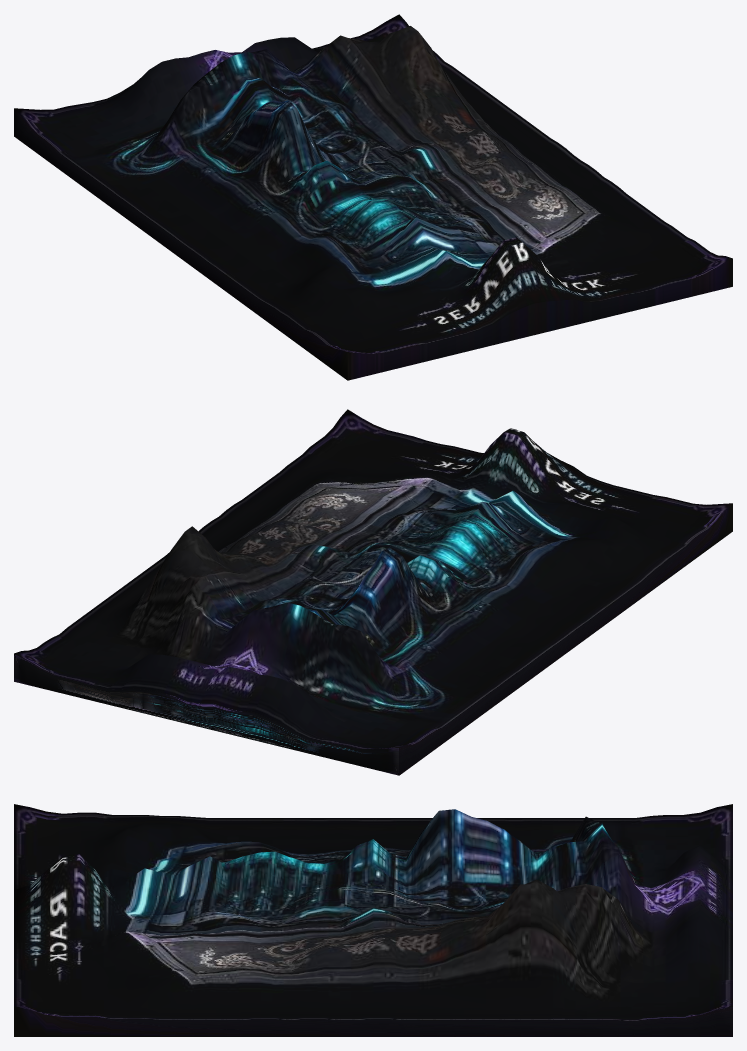
Rendered from TECH_04_Server_Rack.glb.
The picture shows the model from 3 angles, top to bottom: view 1: azimuth 30°, elevation 25°; view 2: azimuth 150°, elevation 25°; view 3: azimuth 270°, elevation 25°; orthographic projection. The views are drawn at different scales.
Visible parts, largest first — view 1: TECH_04_Server_Rack; view 2: TECH_04_Server_Rack; view 3: TECH_04_Server_Rack.
Boxes of the visible parts, x1=… form: TECH_04_Server_Rack: x1=14, y1=14, x2=732, y2=380; TECH_04_Server_Rack: x1=14, y1=409, x2=732, y2=775; TECH_04_Server_Rack: x1=14, y1=804, x2=732, y2=1036.
Size of the model in its own units: 2 by 0.51 by 3.
Materials: 1 (1 with a texture image).
